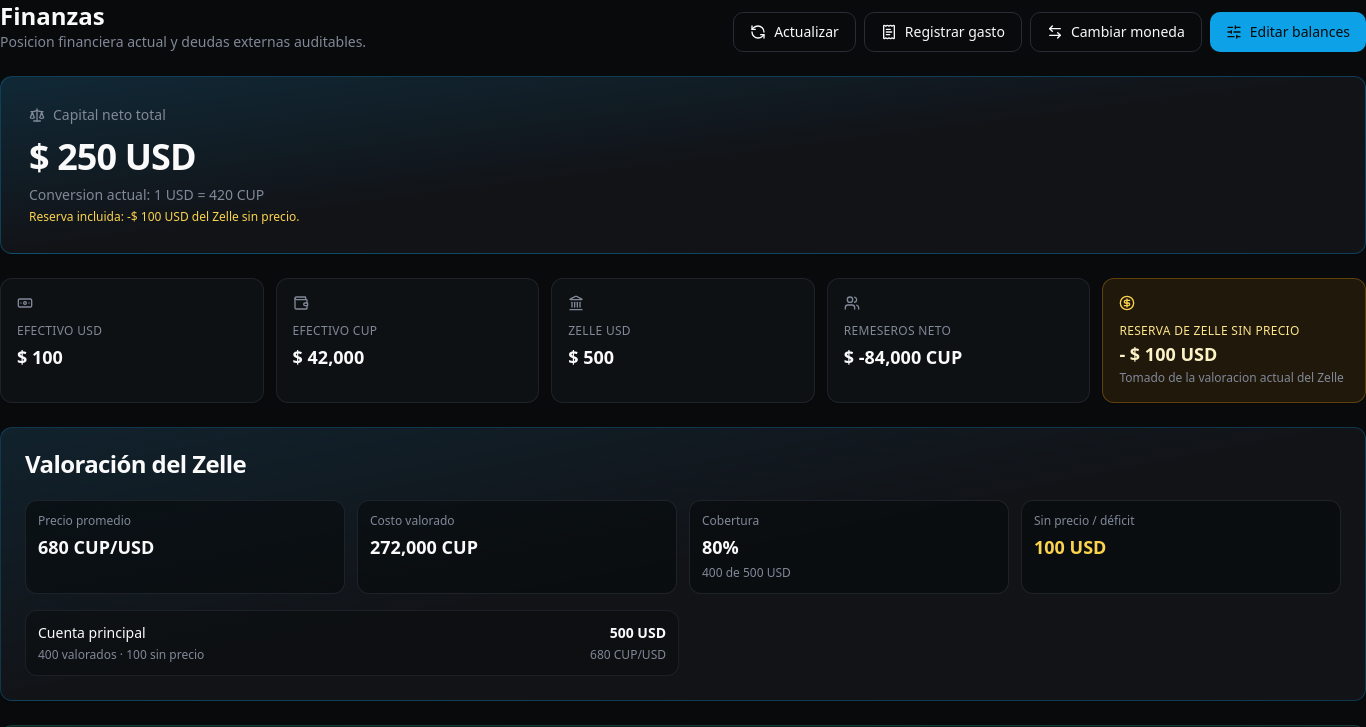
Test: FinancesView › registers a formatted expense against the selected currency balance
Expected: the text "$ 250 USD" is shown, top-left (29, 132), bottom-right (196, 181)
Click the button "Registrar gasto" at (943, 32), box top-left (864, 12), bottom-right (1022, 52)
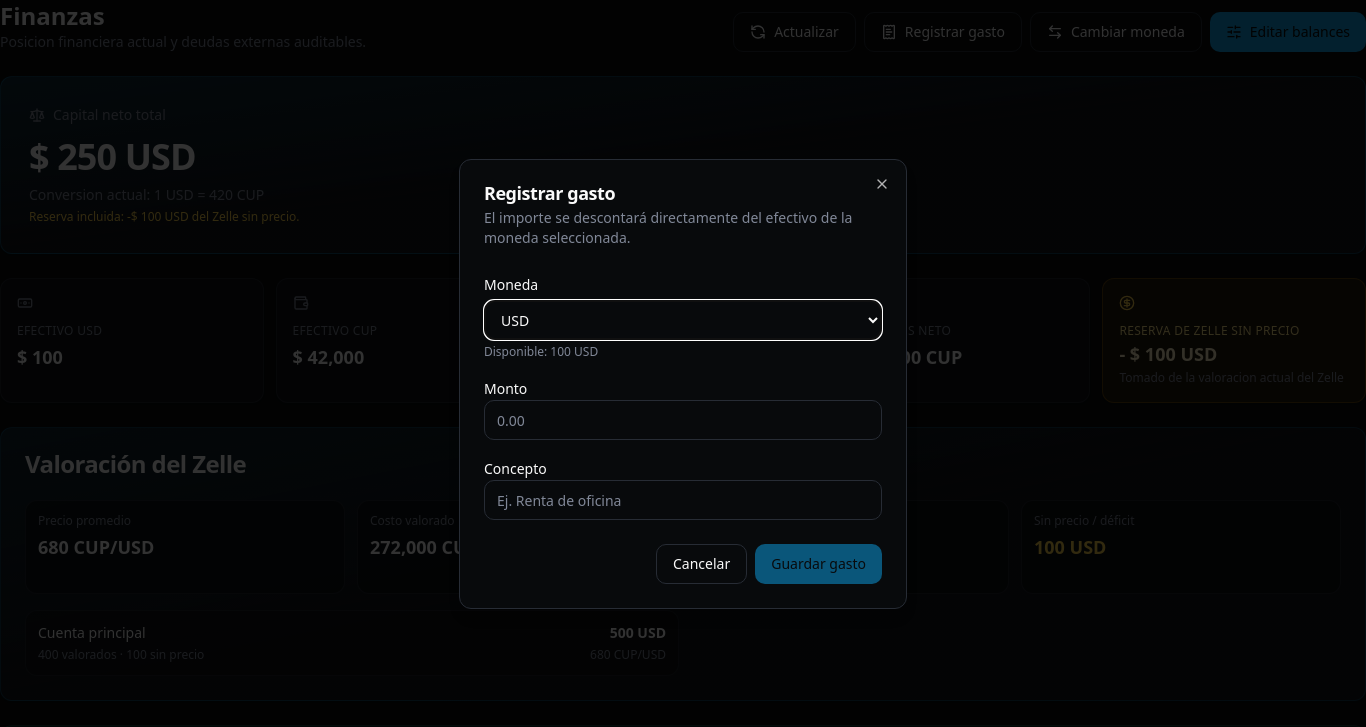
Select "CUP" in the dropdown labelled "Moneda" at (683, 320), box top-left (484, 300), bottom-right (882, 340)
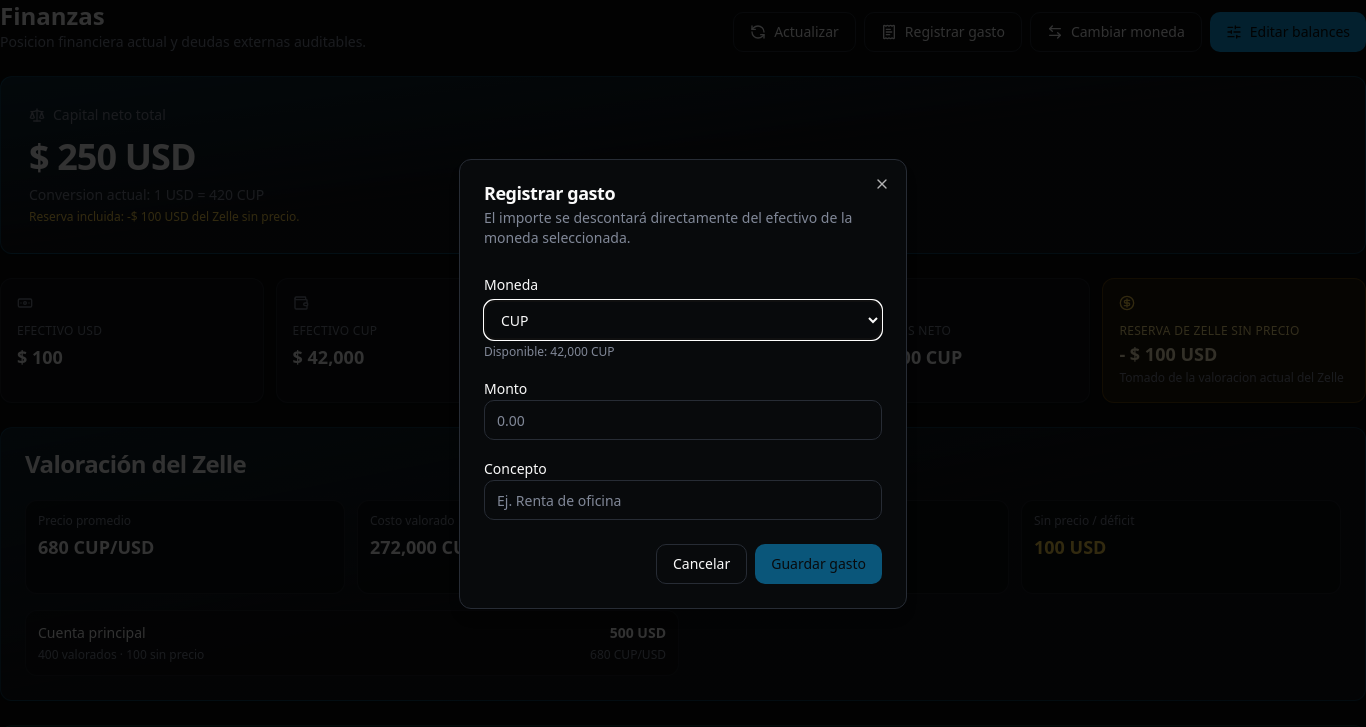
Type "10000.5" into the field labelled "Monto" at (683, 420), box top-left (484, 400), bottom-right (882, 440)
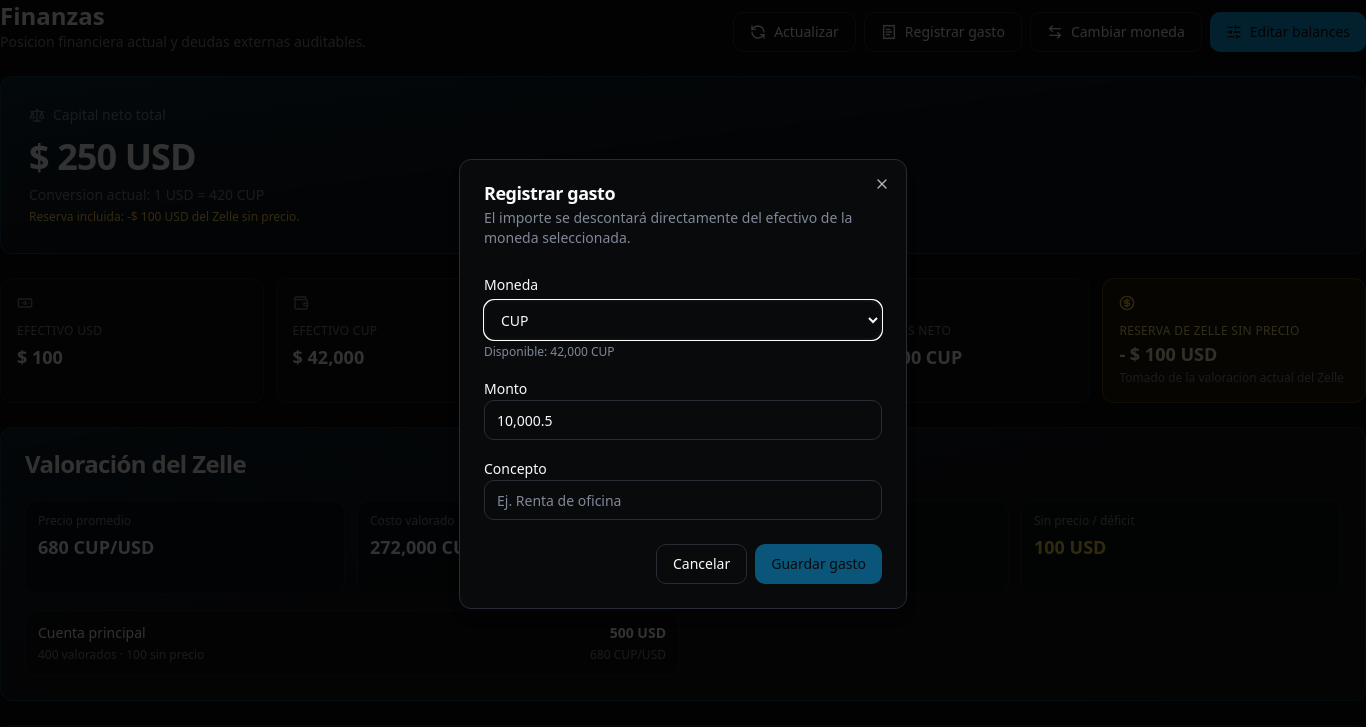
Expected: the field labelled "Monto" holds "10,000.5", top-left (484, 400), bottom-right (882, 440)
Type "Renta" into the field labelled "Concepto" at (683, 500), box top-left (484, 480), bottom-right (882, 520)
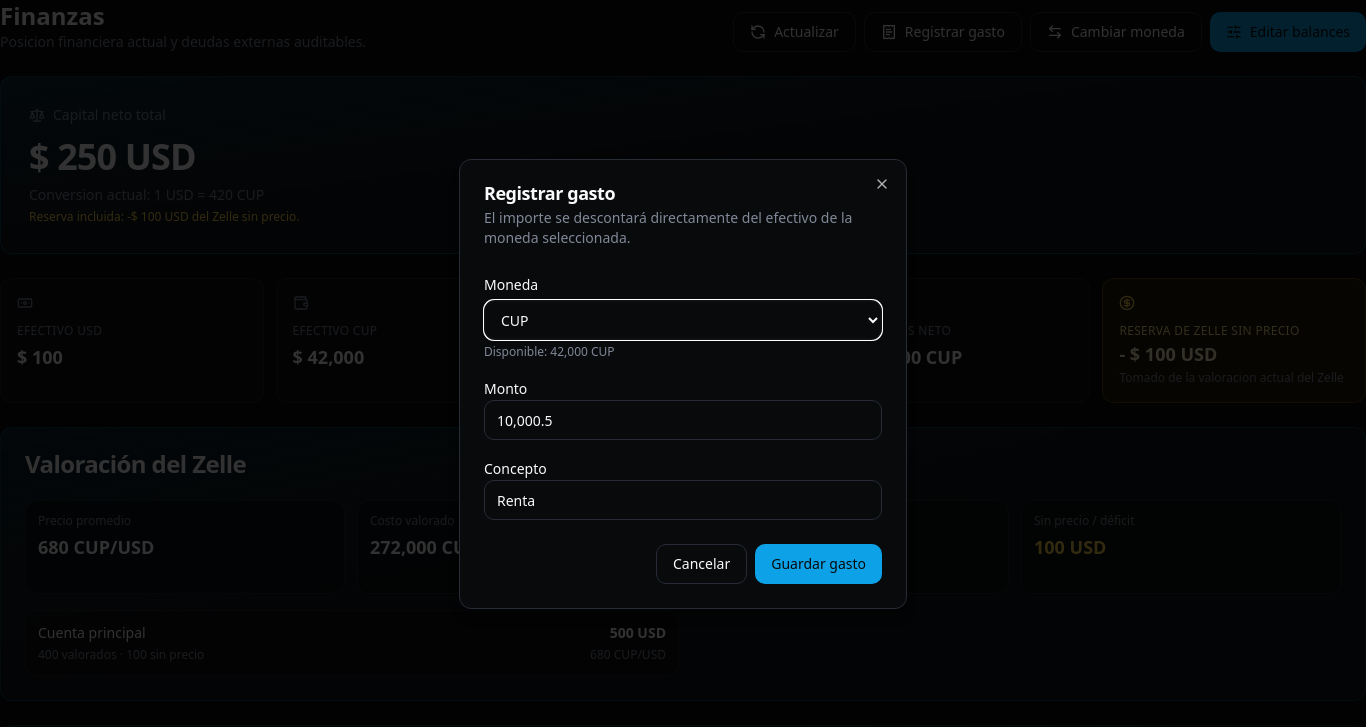
Click the button "Guardar gasto" at (819, 564), box top-left (755, 544), bottom-right (882, 584)
(page scrolled)
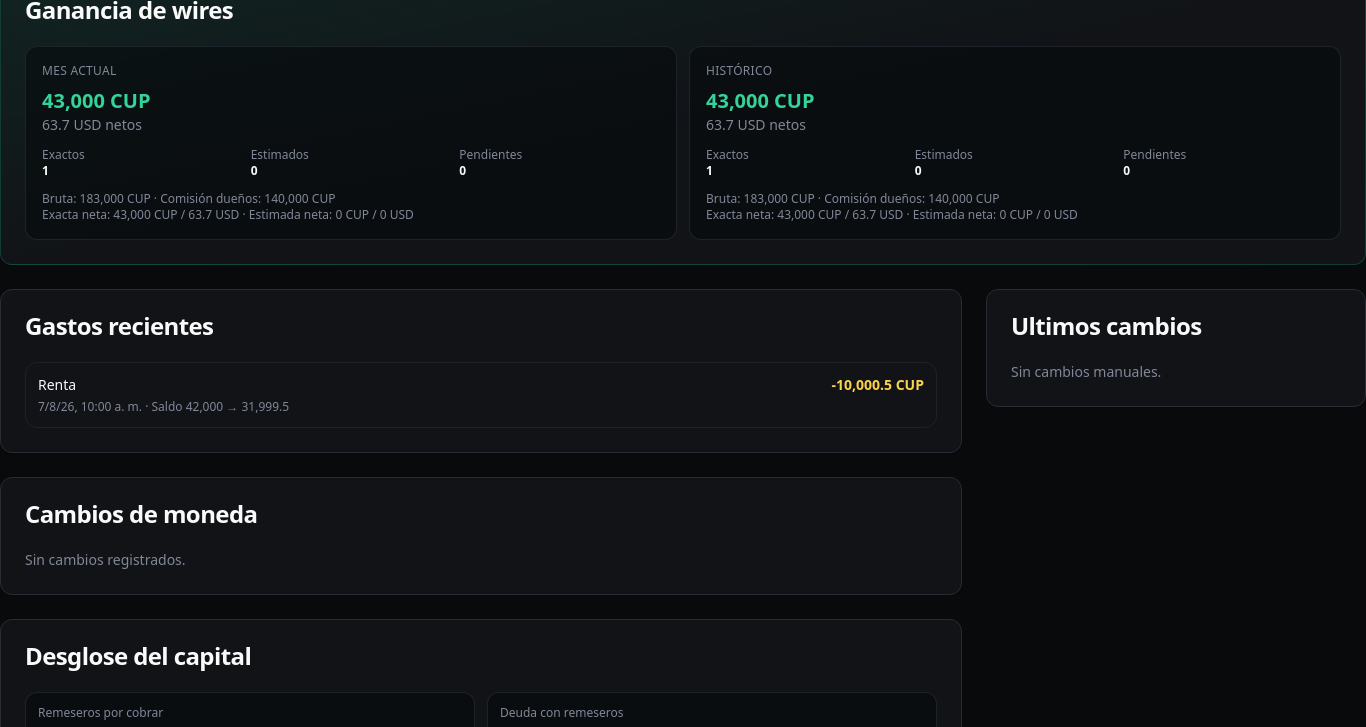
Expected: the text "-10,000.5 CUP" is shown, top-left (832, 374), bottom-right (924, 394)
